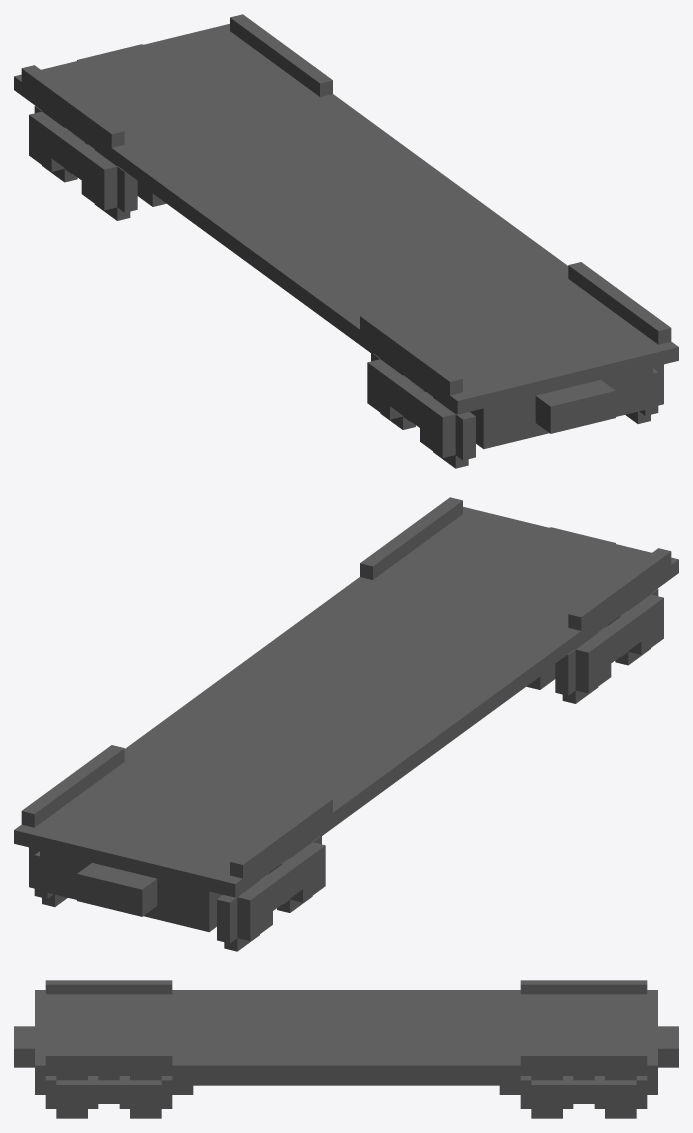
Rendered from veh_train3.obj.
3 renders of one model, top to bottom at view 1: azimuth 30°, elevation 25°; view 2: azimuth 150°, elevation 25°; view 3: azimuth 270°, elevation 25°, orthographic. The views are drawn at different scales.
Size of the model in its own units: 17 by 7 by 63.
